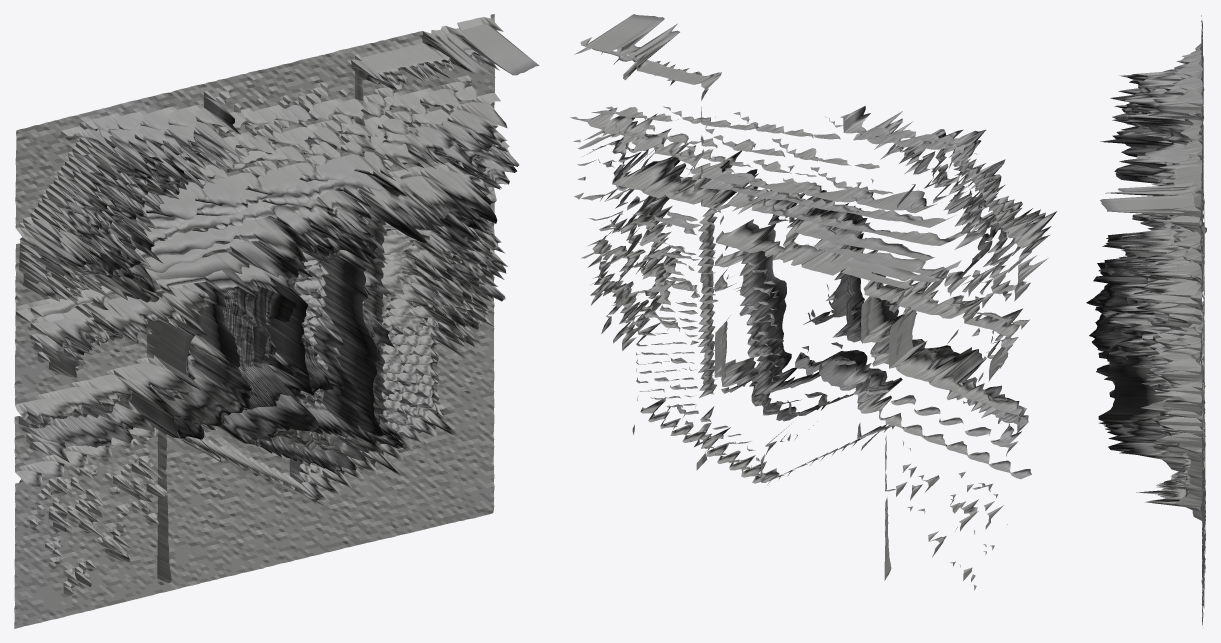
3 renders of one model, left to right at view 1: azimuth 30°, elevation 25°; view 2: azimuth 150°, elevation 25°; view 3: azimuth 270°, elevation 25°, orthographic. The views are drawn at different scales.
Visible parts, largest first — view 1: world; view 2: world; view 3: world.
Boxes of the visible parts, left/top/right/bottom form: world: left=14, top=14, right=539, bottom=628; world: left=570, top=14, right=1056, bottom=590; world: left=1086, top=15, right=1206, bottom=625.
Size of the model in its own units: 1 by 1 by 0.2612.
1 material, 1 textured.
